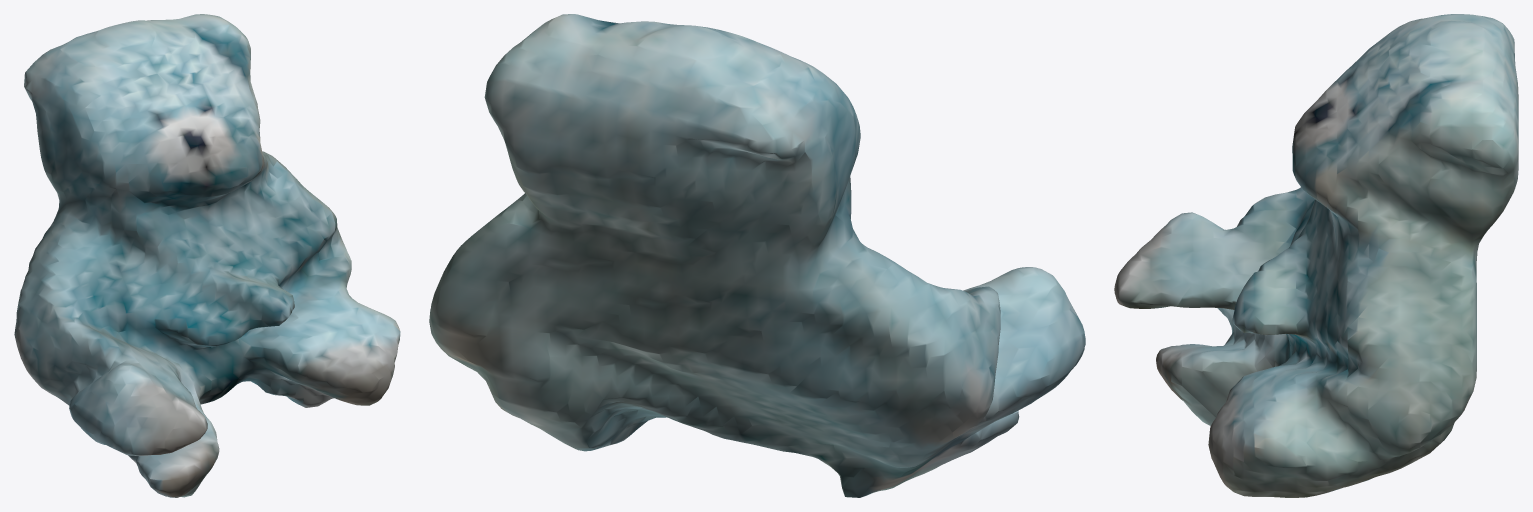
Rendered from prop.glb.
3 views of the same model, side by side, from view 1: azimuth 30°, elevation 25°; view 2: azimuth 150°, elevation 25°; view 3: azimuth 270°, elevation 25° (orthographic). The views are drawn at different scales.
Parts seen in each view (by area): view 1: large blue plush teddy bear; view 2: large blue plush teddy bear; view 3: large blue plush teddy bear.
Part boxes in pixels (<box>): large blue plush teddy bear: <box>14,14,400,497</box>; large blue plush teddy bear: <box>429,14,1085,497</box>; large blue plush teddy bear: <box>1114,14,1518,497</box>.
Bounding box in the file's own units: 0.6179 × 0.6347 × 0.5498.
